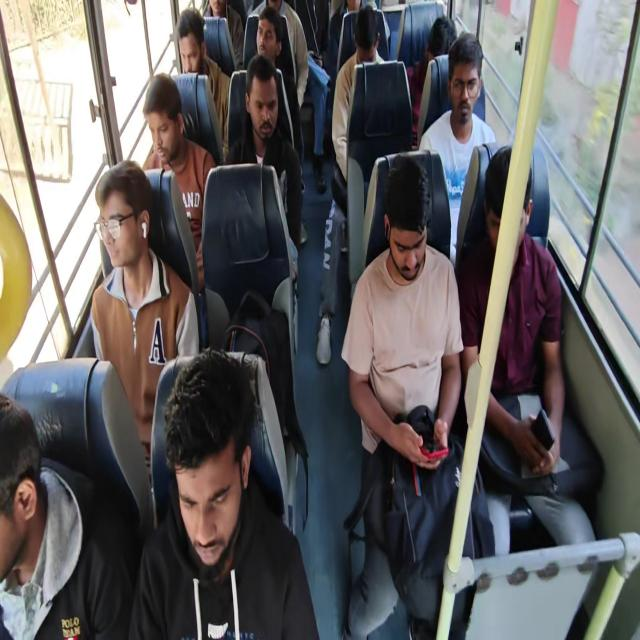person: (340, 156, 494, 638), (456, 143, 598, 556), (128, 347, 320, 639), (90, 159, 200, 475), (0, 392, 135, 639), (316, 6, 387, 366), (417, 32, 497, 267), (225, 53, 303, 285), (140, 72, 217, 292), (331, 5, 386, 184), (176, 8, 231, 157), (294, 0, 330, 194), (250, 0, 308, 111), (407, 15, 457, 141), (204, 0, 244, 71), (328, 0, 362, 73)
